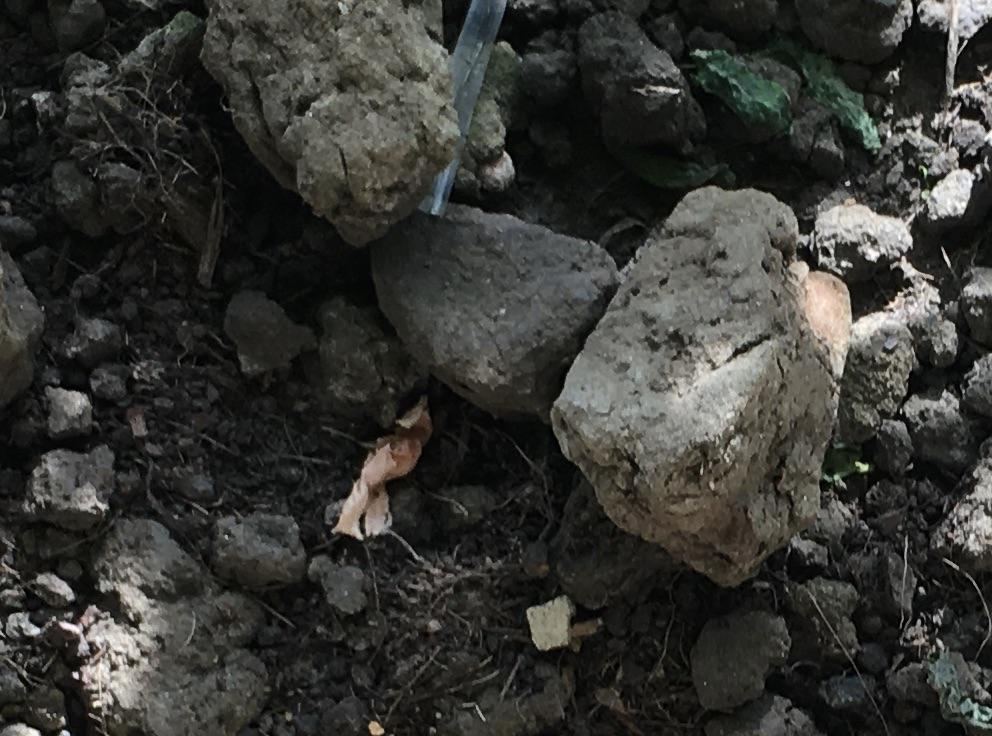block: (554, 180, 853, 587), (194, 1, 522, 233), (365, 187, 605, 419), (70, 524, 283, 736)
